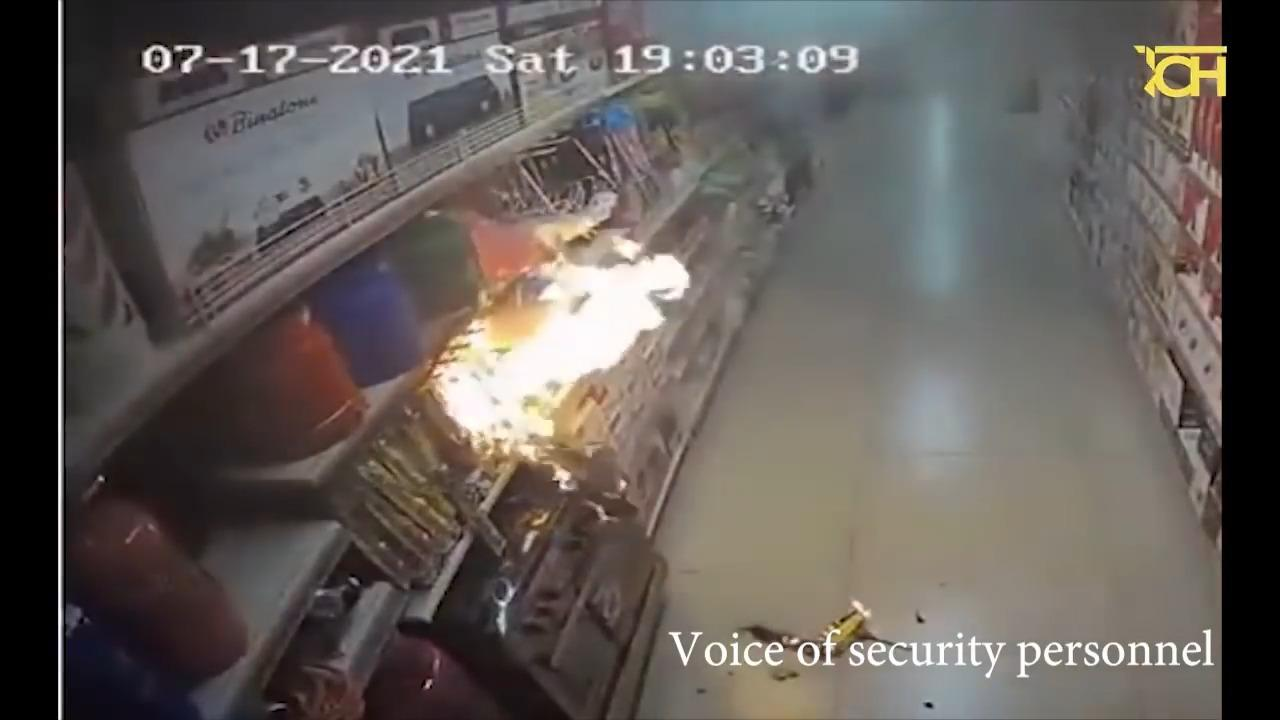fire: (432, 238, 687, 436), (852, 599, 872, 617)
